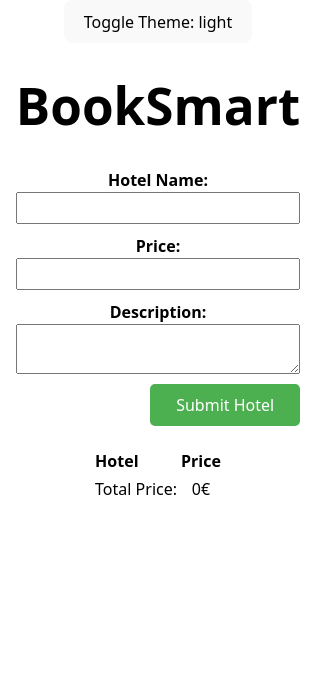
App › should successfully add a new hotel to the list
Type "Test Resort" into the field labelled "Hotel Name:" at [158, 208], box 16,192 -> 300,224
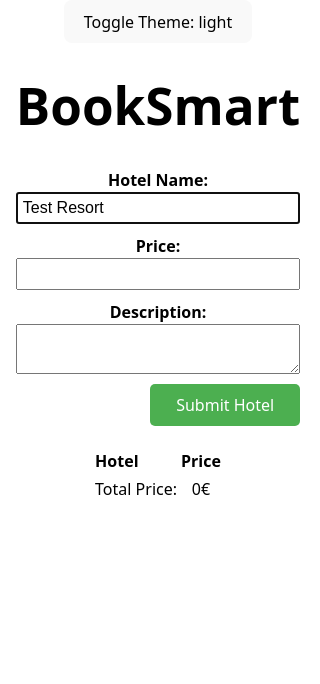
Type "250" into the number field labelled "Price:" at [158, 274], box 16,258 -> 300,290
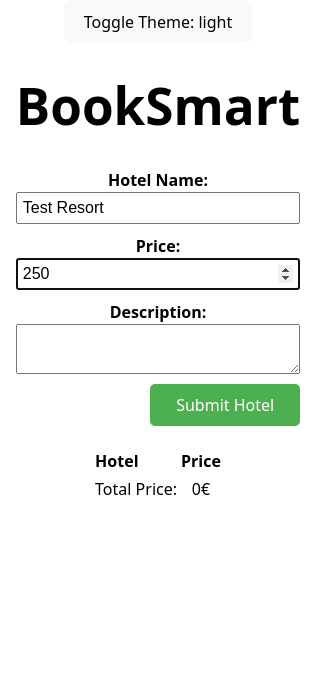
Type "A wonderful place to stay." into the text box named "description" at [158, 349], box 16,324 -> 300,374
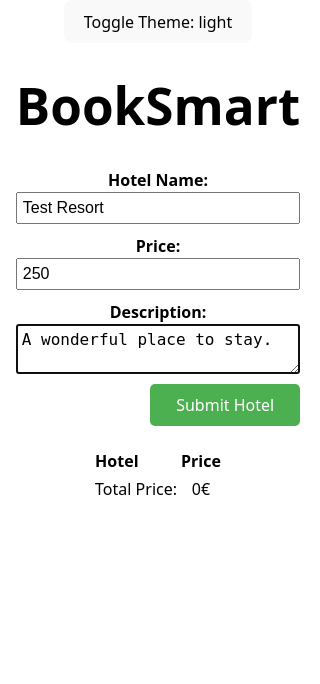
Click the button "Submit Hotel" at [225, 405], box 150,384 -> 300,426
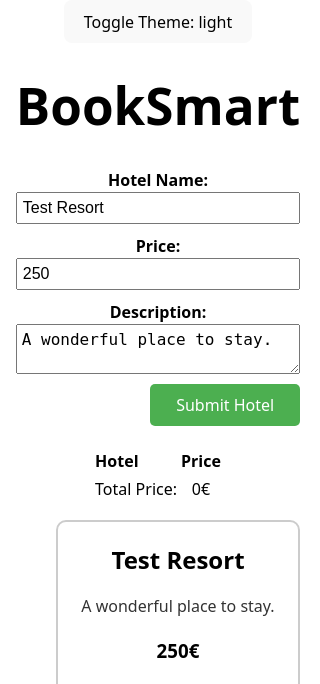
expect the heading "Test Resort" is shown: met, box 111,543 -> 244,576
